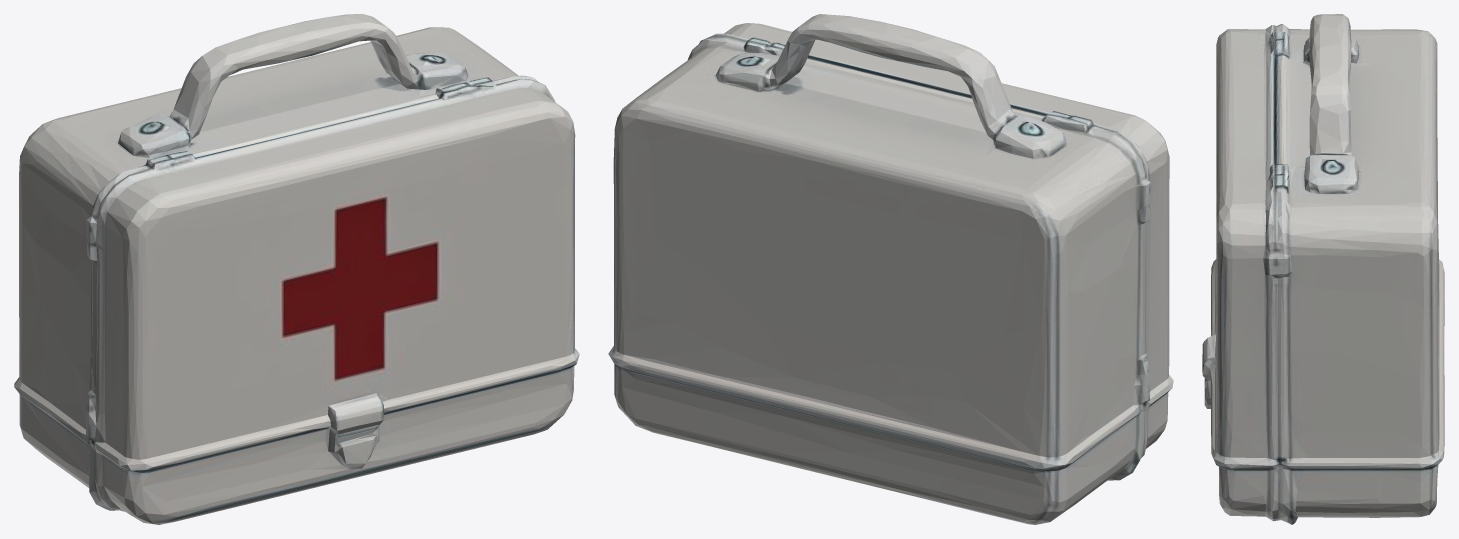
Rendered from medkit.glb.
3 renders of one model, left to right at view 1: azimuth 30°, elevation 25°; view 2: azimuth 150°, elevation 25°; view 3: azimuth 270°, elevation 25°, orthographic. The views are drawn at different scales.
Visible parts, largest first — view 1: tmplqchkgka.ply; view 2: tmplqchkgka.ply; view 3: tmplqchkgka.ply.
Part boxes in pixels (x1,y1,x2,y2): tmplqchkgka.ply: (14,14,579,524); tmplqchkgka.ply: (608,14,1173,524); tmplqchkgka.ply: (1202,14,1444,524).
Size of the model in its own units: 1.99 by 1.72 by 0.9668.
Materials: 1 (1 with a texture image).
